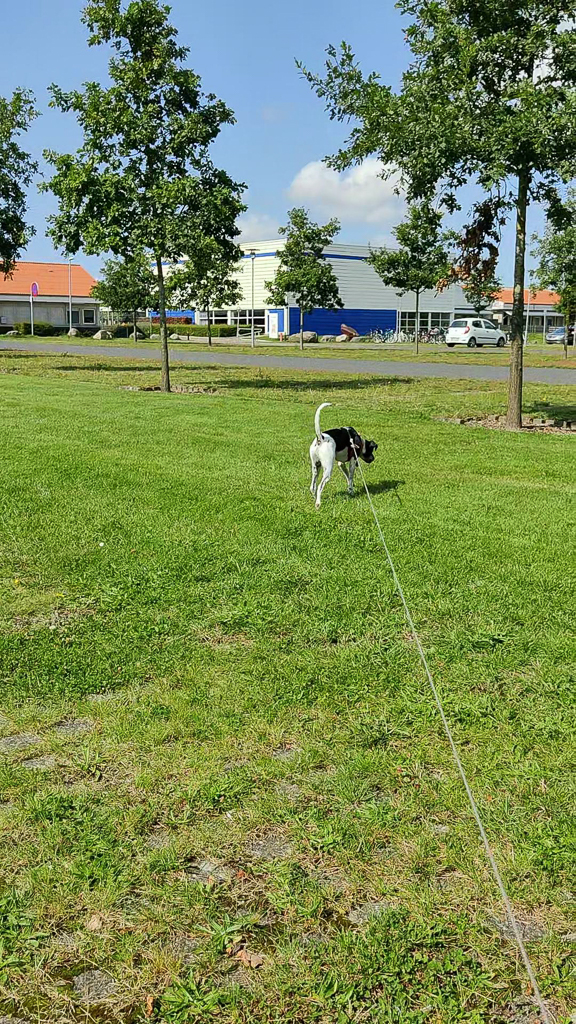Dog: (298, 398, 383, 518)
